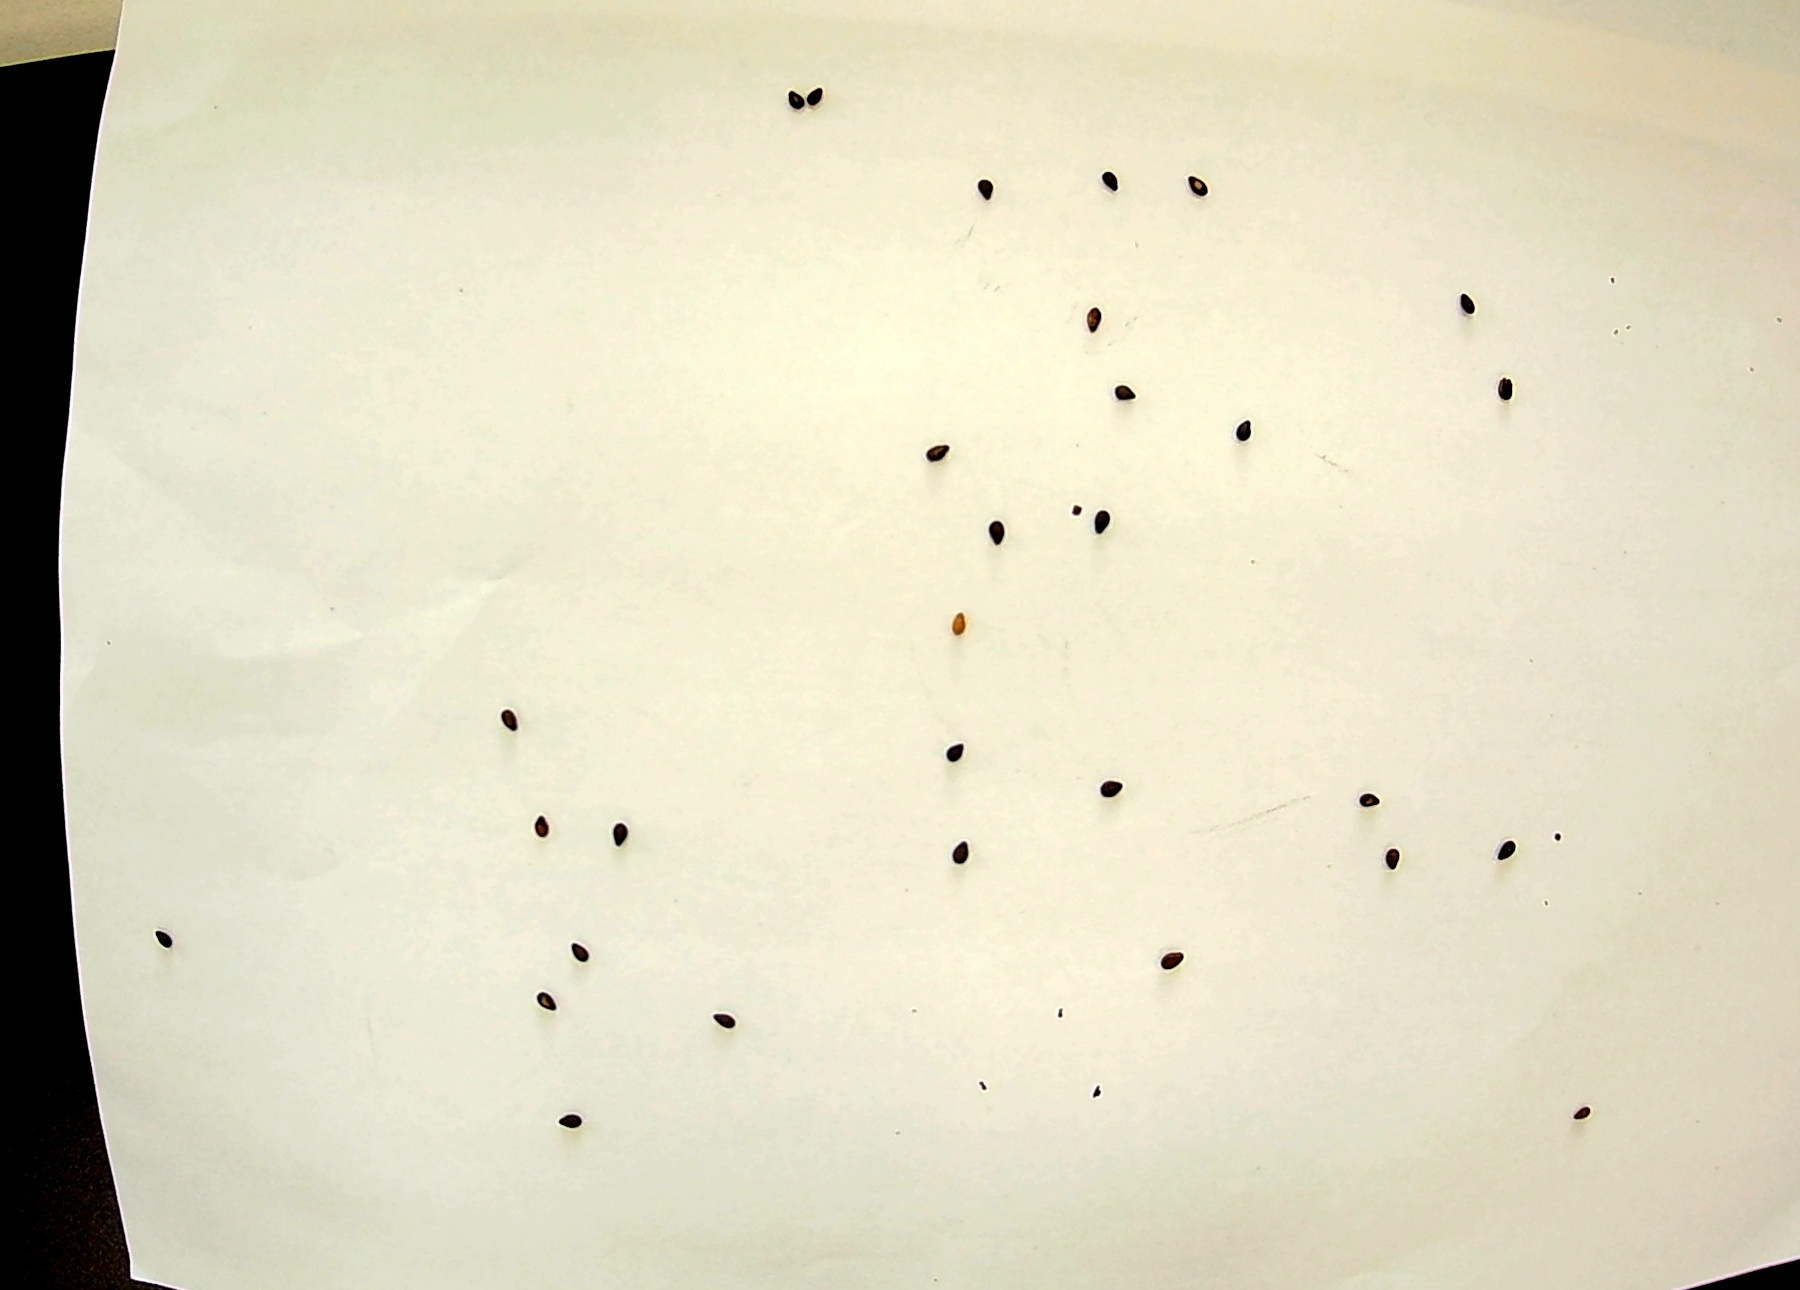sesami: (1088, 505, 1120, 549), (932, 727, 964, 771), (1453, 282, 1485, 324), (1222, 409, 1254, 451), (1221, 408, 1253, 450), (1492, 369, 1524, 410), (985, 510, 1017, 551), (922, 436, 954, 477), (954, 603, 987, 645), (940, 839, 973, 881), (1093, 765, 1125, 807), (1157, 931, 1189, 973), (1373, 839, 1405, 881), (1360, 771, 1393, 813), (1490, 821, 1522, 863), (1573, 1099, 1605, 1141), (707, 1007, 740, 1048), (547, 1102, 579, 1143), (530, 987, 562, 1029), (573, 934, 606, 976), (614, 808, 646, 850), (530, 808, 562, 850), (495, 692, 527, 734), (151, 926, 181, 967), (841, 77, 864, 112), (1095, 162, 1118, 197), (1194, 169, 1217, 204), (970, 169, 992, 204), (1112, 374, 1134, 409), (781, 77, 802, 112), (1081, 299, 1102, 334)
